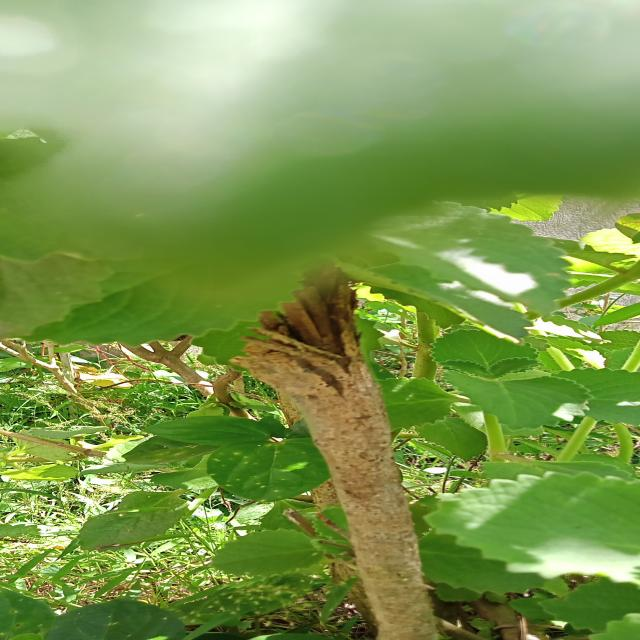Oregano: (421, 460, 640, 589), (418, 325, 640, 443), (203, 518, 356, 584)
